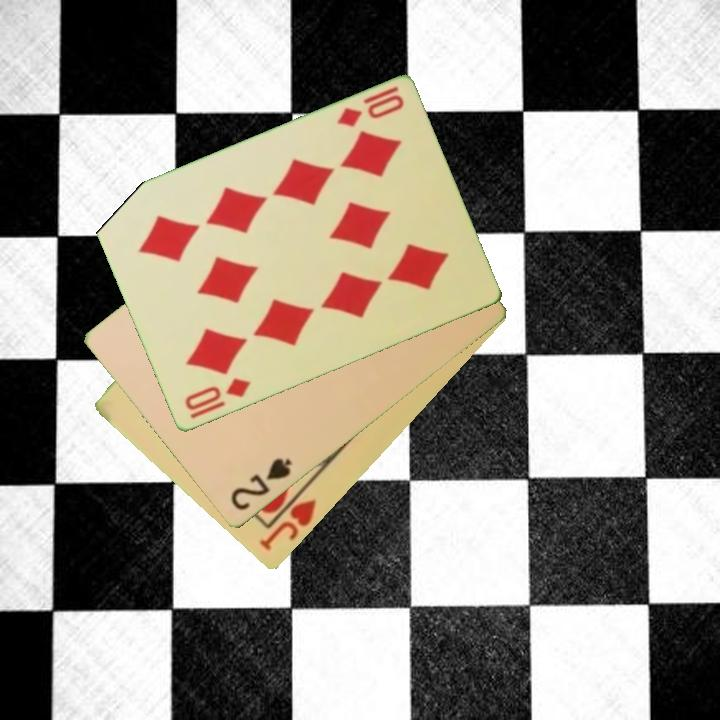10d: (333, 83, 407, 131), (180, 374, 253, 414)
2s: (227, 455, 295, 515)
Jh: (255, 496, 320, 554)
